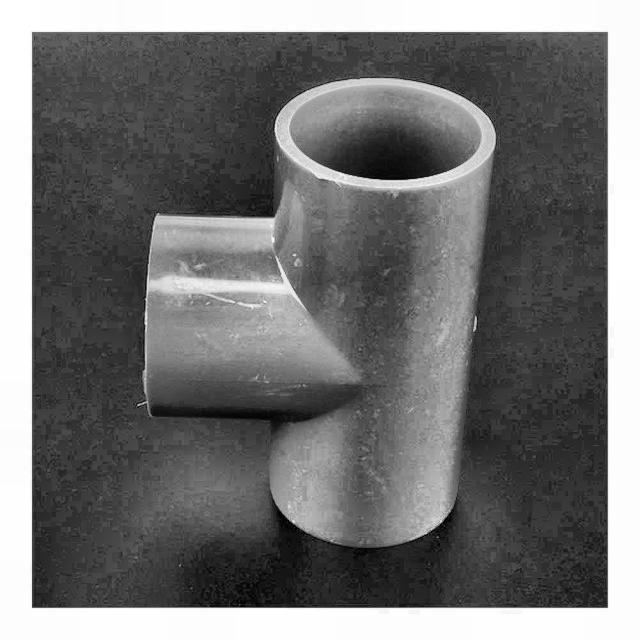EQUALTEE: (143, 78, 497, 551)
